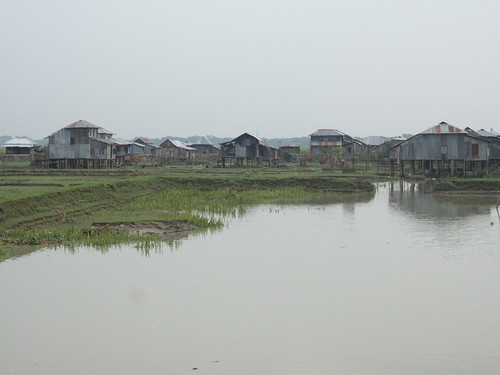building: (400, 129, 500, 176), (42, 116, 124, 167), (301, 129, 382, 169), (120, 137, 198, 168), (214, 134, 292, 165)
river: (6, 193, 500, 375)
sky: (1, 1, 495, 125)
